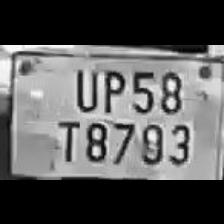3: (164, 116, 191, 166)
5: (126, 64, 156, 112)
7: (107, 116, 133, 164)
8: (155, 65, 185, 112), (81, 116, 107, 162)
9: (136, 116, 163, 166)
P: (96, 62, 126, 112)
T: (52, 114, 80, 162)
U: (69, 60, 99, 110)
